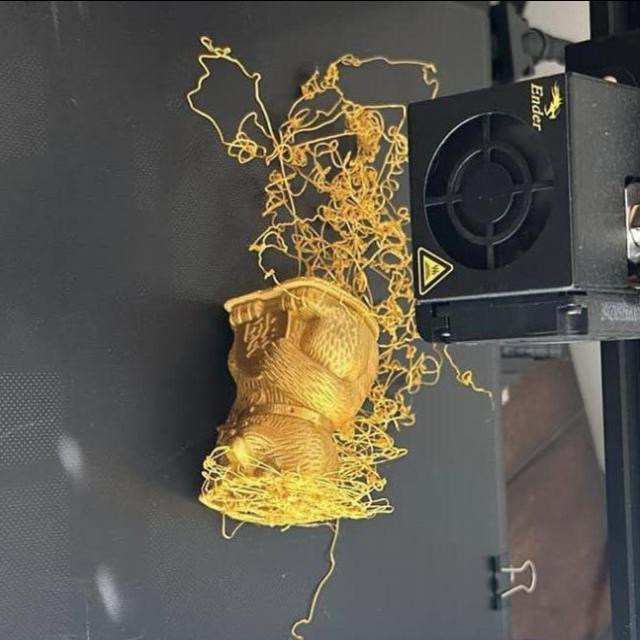Spaghetti: (322, 142, 404, 269), (254, 200, 346, 269), (344, 380, 415, 468), (262, 138, 332, 208), (297, 57, 347, 120), (222, 129, 278, 169), (190, 44, 218, 112), (345, 50, 439, 70)
